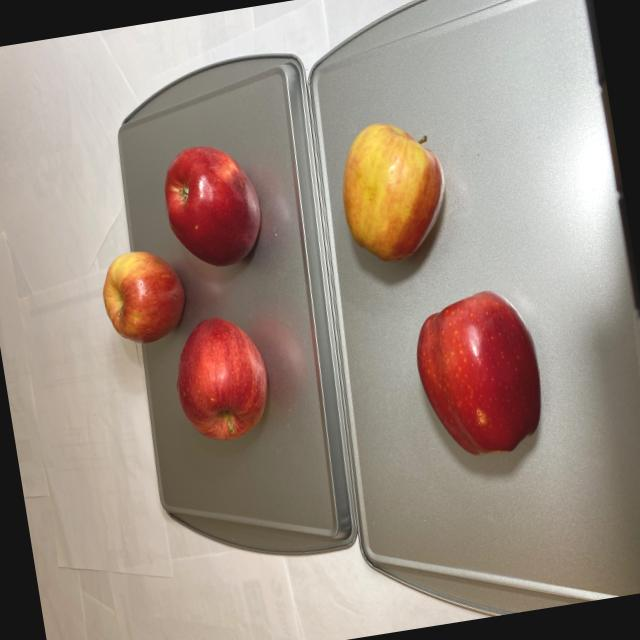apple: (328, 98, 552, 477), (80, 133, 300, 464)
